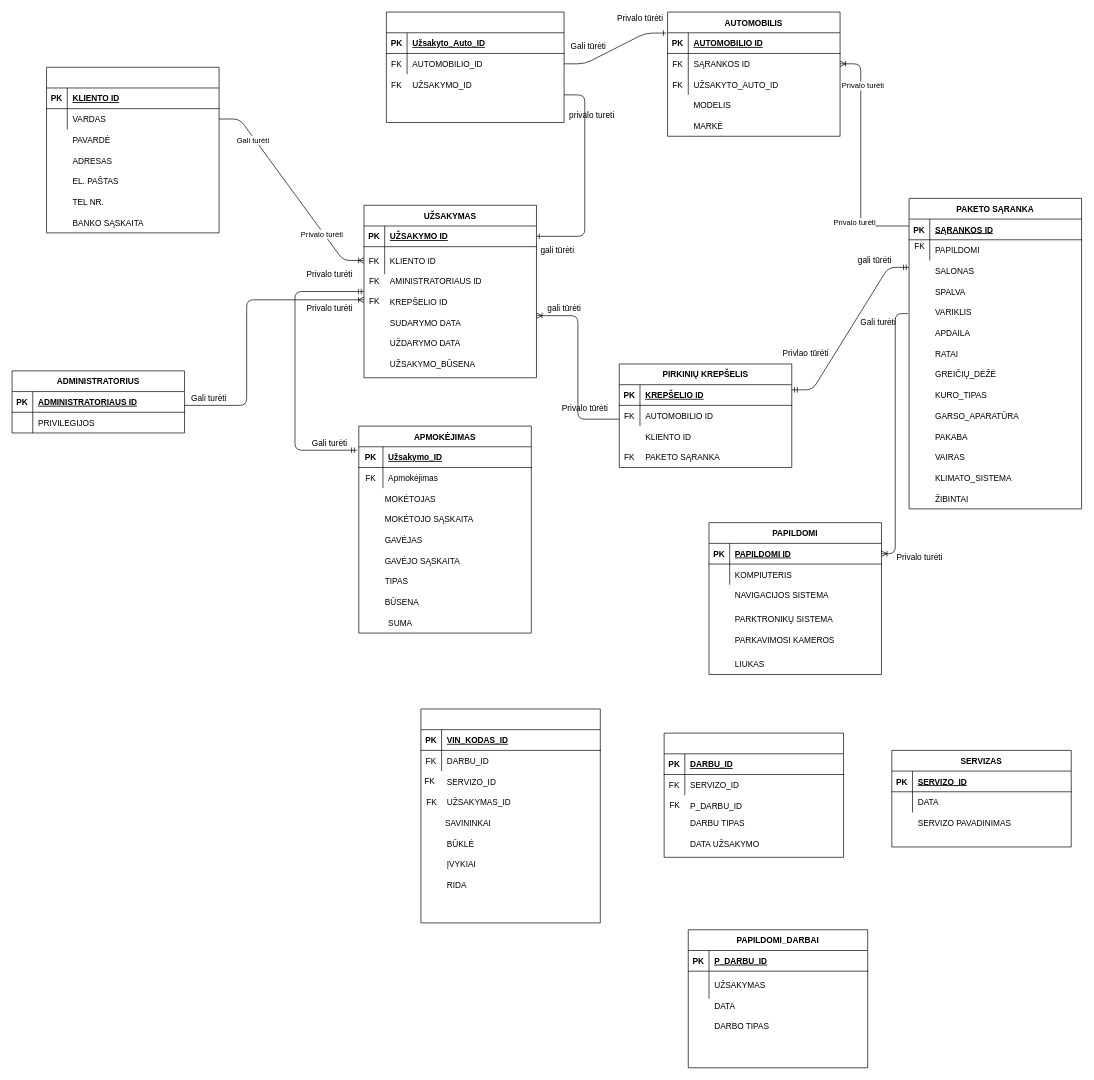
This 1094x1080 diagram has some shape labels left out. Each missing label, with the box of its shape:
AUTO ISTORIJA: (420, 708, 600, 923)
AUTOMOBILIO DARBAI: (663, 732, 844, 857)
Klientas: (46, 67, 219, 233)
Užsakymo automobilis: (386, 11, 564, 122)
